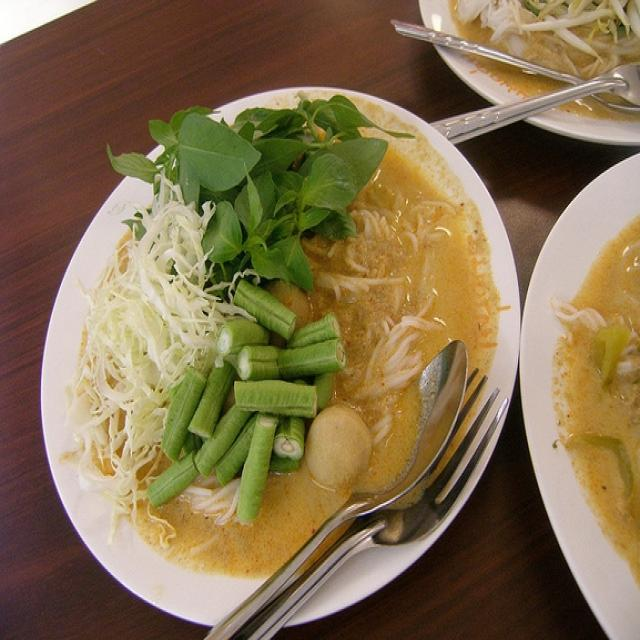面条主食: (33, 77, 536, 601)
